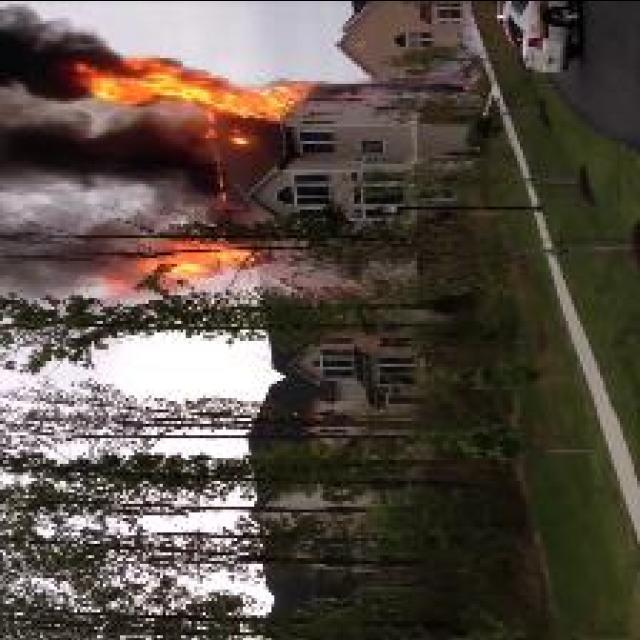Fire: (73, 54, 310, 122), (103, 238, 271, 290)
